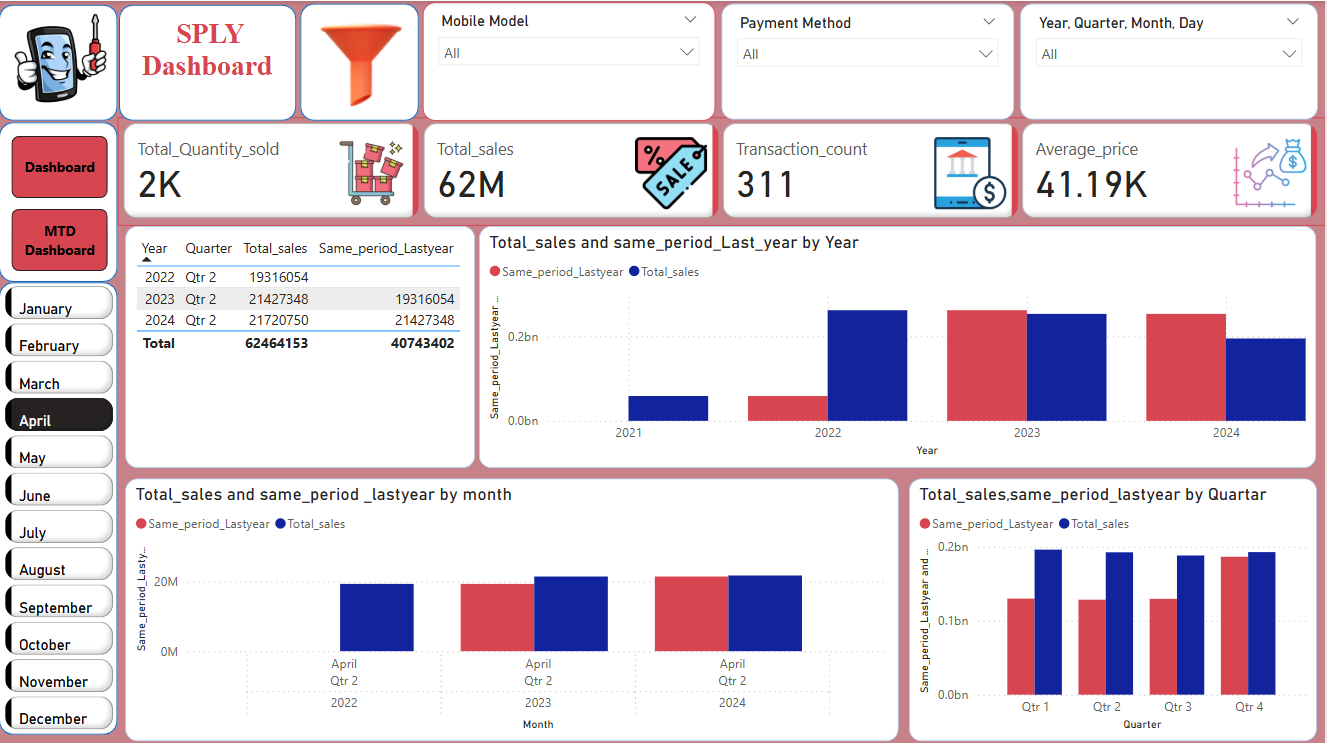

Layout of this report page (visuals, bound fields, positions):
{"tool":"powerbi","page":{"name":"Same Period Last year","canvas":[1280,720],"ordinal":2},"visuals":[{"type":"shape","box":[0,3.6,114.6,112.2],"z":0},{"type":"image","box":[2.4,0,114.6,112.2],"z":1000},{"type":"shape","box":[0,117,114.6,154.4],"z":2000},{"type":"cardVisual","fields":{"Data":["Mobile_sales_data.Total_Quantity_sold","Mobile_sales_data.Total_sales","Mobile_sales_data.Transaction_count","Mobile_sales_data.Average_price"]},"box":[114.6,112.2,1165.4,105],"z":3000},{"type":"slicer","fields":{"Values":["Mobile_sales_data.Mobile Model"]},"box":[409,1.2,282.3,114.6],"z":4000},{"type":"slicer","fields":{"Values":["Mobile_sales_data.Payment Method"]},"box":[697.3,2.4,282.3,112.2],"z":5000},{"type":"slicer","fields":{"Values":["Custom_Calendar.Date.Variation.Date Hierarchy.Year","Custom_Calendar.Date.Variation.Date Hierarchy.Quarter","Custom_Calendar.Date.Variation.Date Hierarchy.Month","Custom_Calendar.Date.Variation.Date Hierarchy.Day"]},"box":[985.7,2.4,287.1,112.2],"z":6000},{"type":"shape","box":[290.8,2.4,114.6,113.4],"z":7000},{"type":"image","box":[224.4,6,249.7,109.8],"z":8000},{"type":"shape","box":[115.8,3.6,171.3,112.2],"z":9000},{"type":"textbox","box":[132.7,12.1,146,100.1],"z":10000},{"type":"shape","box":[0,271.4,114.6,436.7],"z":11000},{"type":"advancedSlicerVisual","fields":{"Values":["Custom_Calendar.Date.Variation.Date Hierarchy.Month"]},"box":[1.2,270.2,114.6,442.8],"z":12000},{"type":"tableEx","title":"MTD by Year,Quatar,Month and Day","fields":{"Values":["Custom_Calendar.Date.Variation.Date Hierarchy.Year","Custom_Calendar.Date.Variation.Date Hierarchy.Quarter","Mobile_sales_data.Total_sales","Mobile_sales_data.Same_period_Lastyear"]},"box":[122.1,216.8,337.6,233.3],"z":13000},{"type":"clusteredColumnChart","title":"Total_sales and same_period_Last_year by Year","fields":{"Category":["Custom_Calendar.Date.Variation.Date Hierarchy.Year","Custom_Calendar.Date.Variation.Date Hierarchy.Quarter"],"Y":["Mobile_sales_data.Same_period_Lastyear","Mobile_sales_data.Total_sales"]},"box":[463.8,216.8,808.2,233.3],"z":14000},{"type":"clusteredColumnChart","title":"Total_sales and same_period _lastyear by month","fields":{"Y":["Mobile_sales_data.Same_period_Lastyear","Mobile_sales_data.Total_sales"],"Category":["Custom_Calendar.Date.Variation.Date Hierarchy.Year","Custom_Calendar.Date.Variation.Date Hierarchy.Quarter","Custom_Calendar.Date.Variation.Date Hierarchy.Month"]},"box":[122.1,461.1,746.5,253.9],"z":15000},{"type":"clusteredColumnChart","title":"Total_sales,same_period_lastyear by Quartar","fields":{"Category":["Custom_Calendar.Date.Variation.Date Hierarchy.Year","Custom_Calendar.Date.Variation.Date Hierarchy.Quarter"],"Y":["Mobile_sales_data.Same_period_Lastyear","Mobile_sales_data.Total_sales"]},"box":[878.2,461.1,393.8,253.9],"z":16000},{"type":"pageNavigator","box":[12.3,130.4,93.3,130.4],"z":17000}]}

Visuals, with their boxes in screenshot pixels (x1, y1, x2, y2), scaled from the page's 1280x720 canvas onto the 1327x743 screenshot:
shape: detection(0, 4, 119, 119)
image: detection(2, 0, 121, 116)
shape: detection(0, 121, 119, 280)
cardVisual - Mobile_sales_data.Total_Quantity_sold x Mobile_sales_data.Total_sales: detection(119, 116, 1326, 224)
slicer - Mobile_sales_data.Mobile Model: detection(424, 1, 717, 119)
slicer - Mobile_sales_data.Payment Method: detection(723, 2, 1016, 118)
slicer - Custom_Calendar.Date.Variation.Date Hierarchy.Year x Custom_Calendar.Date.Variation.Date Hierarchy.Quarter: detection(1022, 2, 1320, 118)
shape: detection(301, 2, 420, 119)
image: detection(233, 6, 492, 119)
shape: detection(120, 4, 298, 119)
textbox: detection(138, 12, 289, 116)
shape: detection(0, 280, 119, 731)
advancedSlicerVisual - Custom_Calendar.Date.Variation.Date Hierarchy.Month: detection(1, 279, 120, 736)
"MTD by Year,Quatar,Month and Day" tableEx: detection(127, 224, 477, 464)
"Total_sales and same_period_Last_year by Year" clusteredColumnChart: detection(481, 224, 1319, 464)
"Total_sales and same_period _lastyear by month" clusteredColumnChart: detection(127, 476, 900, 738)
"Total_sales,same_period_lastyear by Quartar" clusteredColumnChart: detection(910, 476, 1319, 738)
pageNavigator: detection(13, 135, 109, 269)
